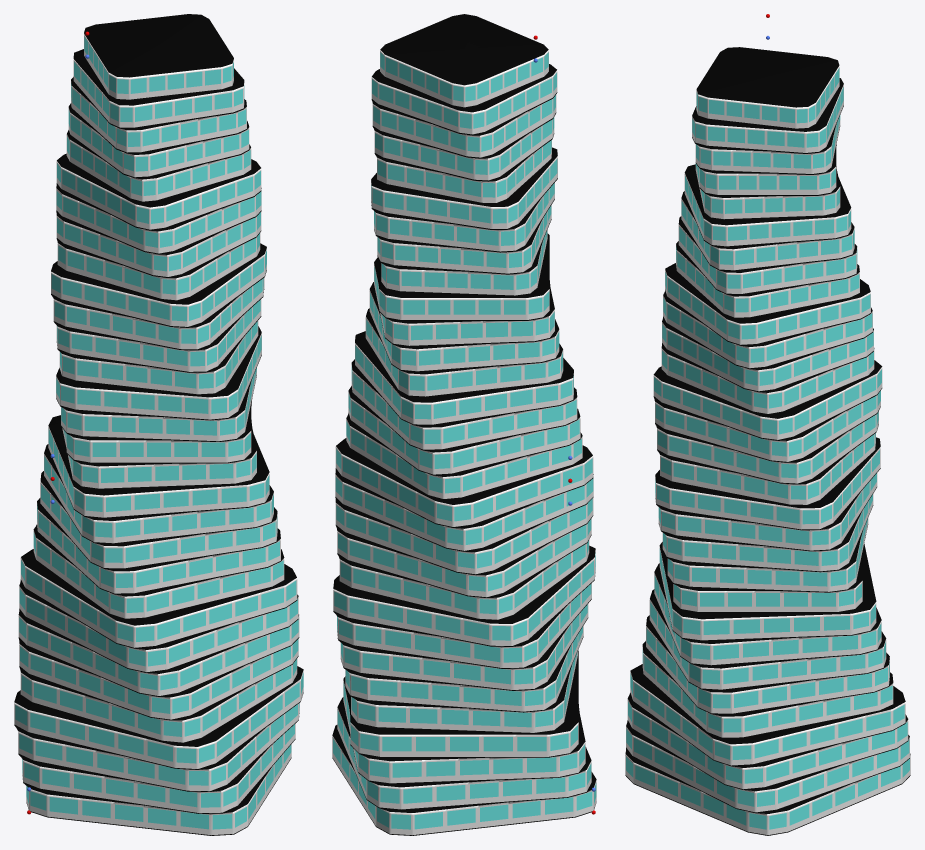
File: Skyscraper.fbx
3 views of the same model, side by side, from view 1: azimuth 30°, elevation 25°; view 2: azimuth 150°, elevation 25°; view 3: azimuth 270°, elevation 25° (orthographic). The views are drawn at different scales.
Visible parts, largest first — view 1: Skyscraper; view 2: Skyscraper; view 3: Skyscraper.
Part boxes in pixels (<box>): Skyscraper: <box>14,14,303,835</box>; Skyscraper: <box>332,14,596,835</box>; Skyscraper: <box>625,47,910,835</box>.
Size of the model in its own units: 3579 by 10050 by 3554.
